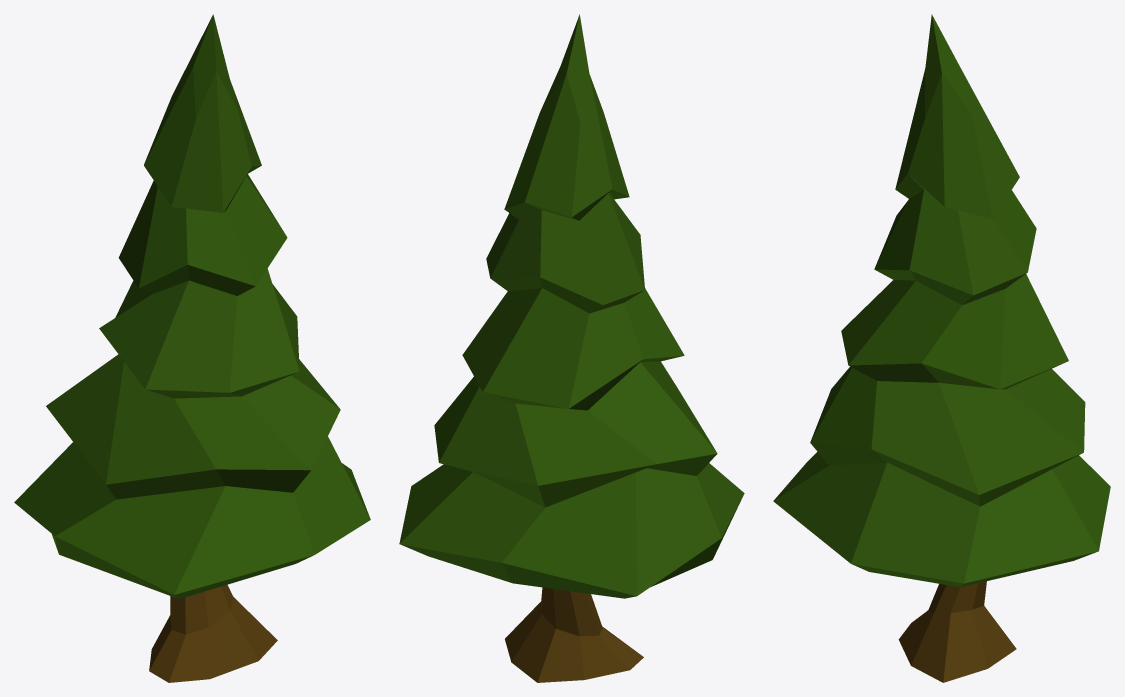
Rendered from Pine2.fbx.
3 renders of one model, left to right at view 1: azimuth 30°, elevation 25°; view 2: azimuth 150°, elevation 25°; view 3: azimuth 270°, elevation 25°, orthographic.
Parts seen in each view (by area): view 1: Cylinder.004; view 2: Cylinder.004; view 3: Cylinder.004.
Part boxes in pixels (x1,y1,x2,y2): Cylinder.004: (14,14,370,682); Cylinder.004: (399,14,744,682); Cylinder.004: (773,14,1110,682).
Size of the model in its own units: 217 by 440 by 212.
